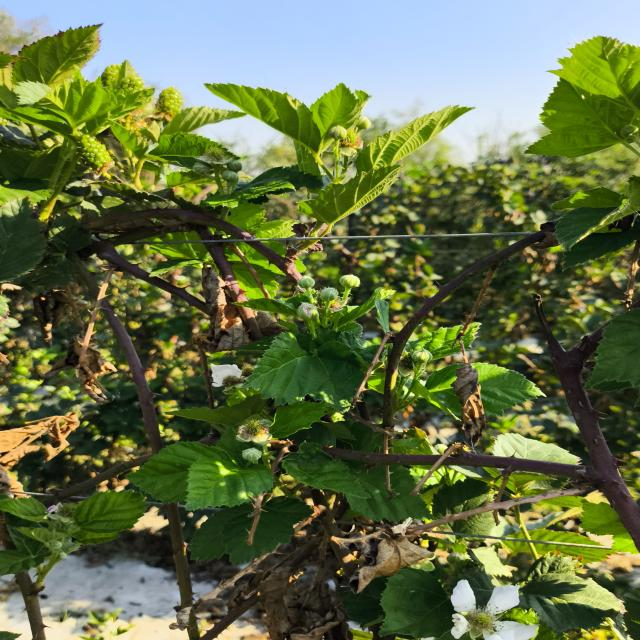boton: (297, 303, 318, 320), (242, 448, 262, 463), (326, 125, 347, 139), (319, 287, 338, 302), (340, 275, 360, 288), (298, 277, 315, 291), (355, 116, 371, 129)
